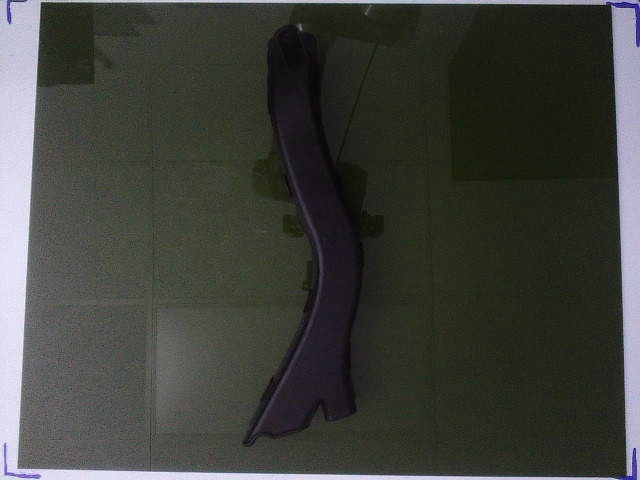887_B-Top: (242, 25, 362, 448)
